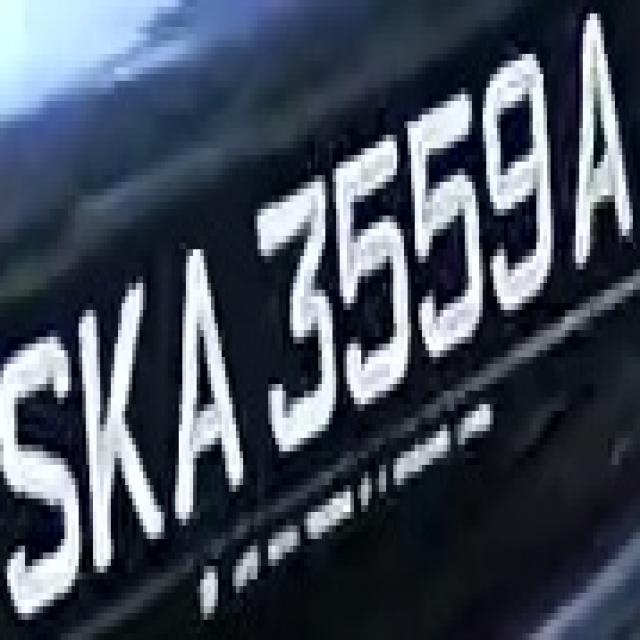3: (250, 162, 344, 444)
5: (397, 88, 486, 398), (322, 135, 415, 411)
9: (476, 47, 558, 317)
A: (154, 209, 246, 525), (554, 14, 636, 276)
K: (71, 256, 161, 586)
S: (0, 317, 79, 633)
